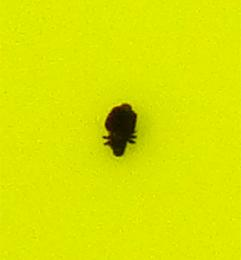Coleoptera: (100, 100, 141, 160)
